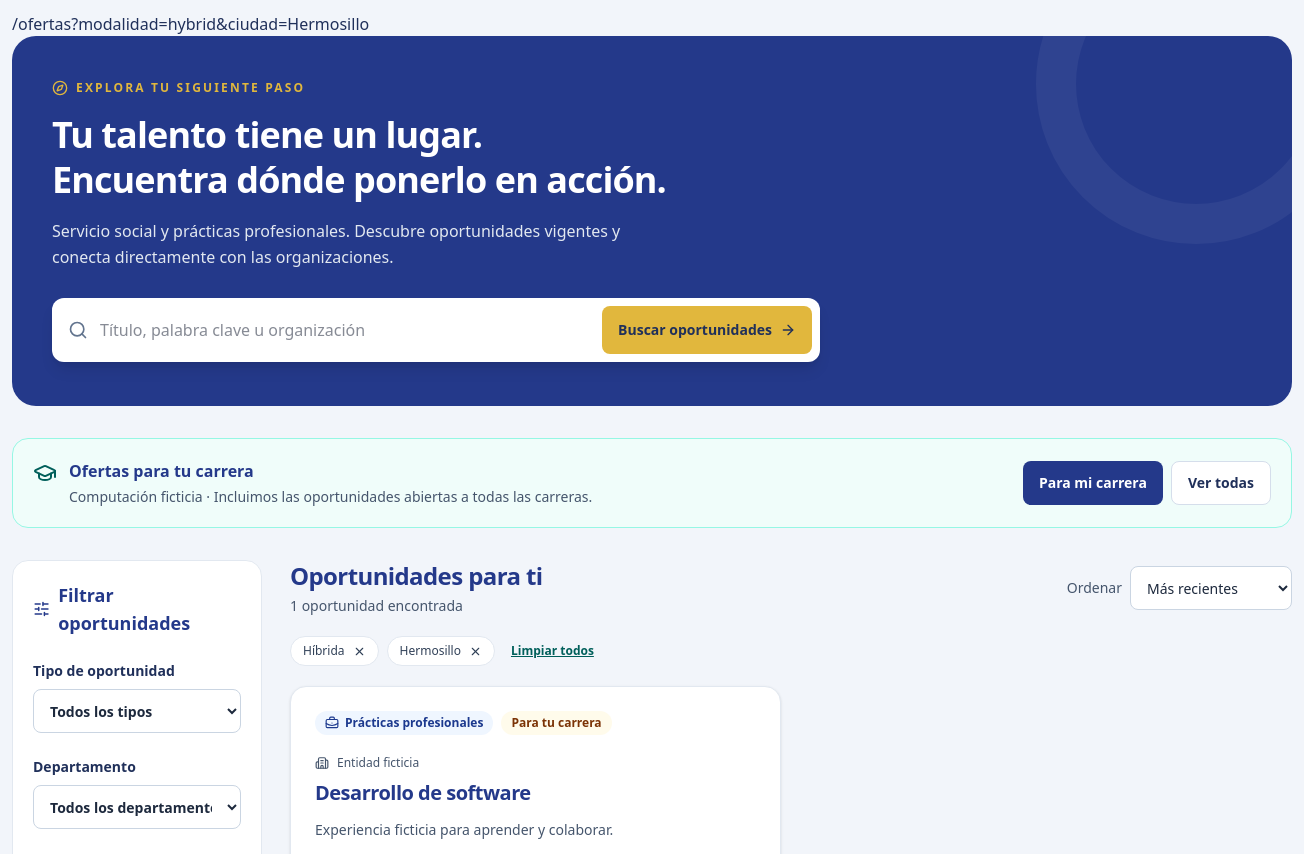
it: Catálogo para estudiantes y exploración › permite quitar chips individuales sin perder filtros restantes
Expected: the link "Desarrollo de software" is shown, [315,779,531,806]
What coordinates should you click on to do the following:
click the button "Híbrida"
I would click on:
 (334, 651)
Its box is [290,636,378,666].
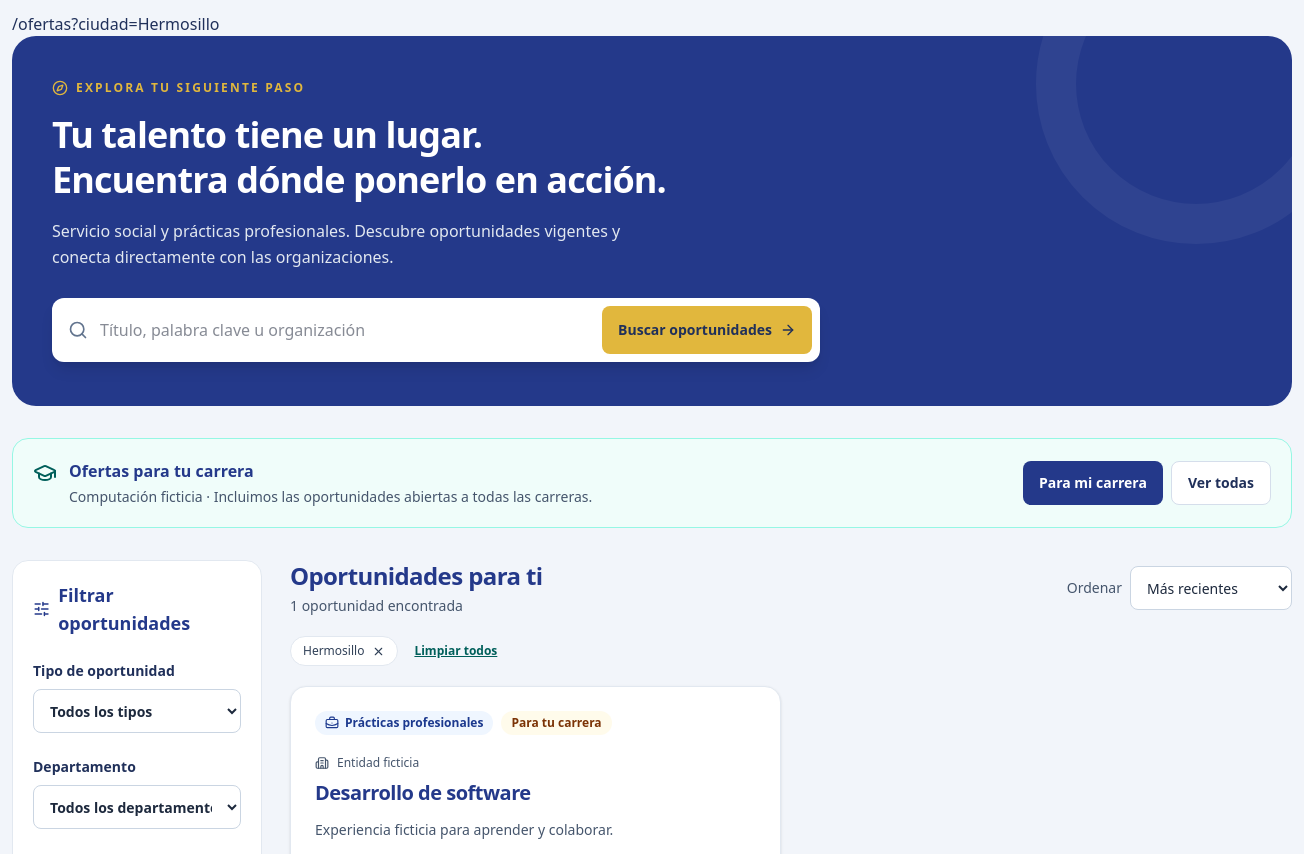
Now the text with test id "url" reads "/ofertas?ciudad=Hermosillo", box [12,13,220,35]
